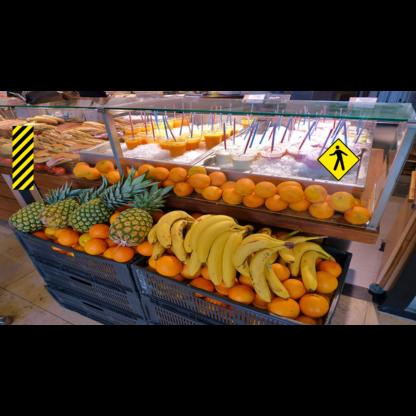A-32a: (317, 138, 360, 181)
O-MP: (12, 126, 33, 190)
